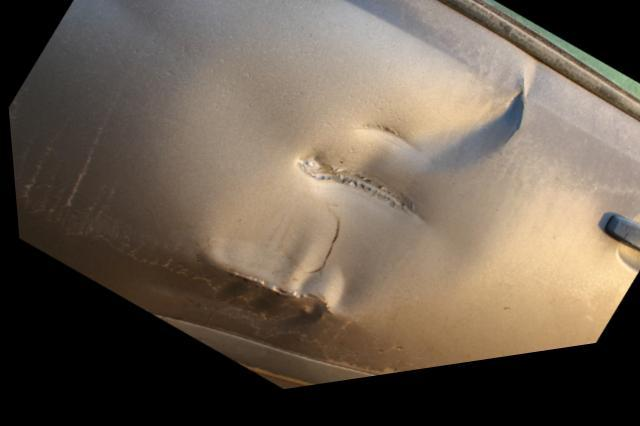dent: (205, 91, 524, 328)
